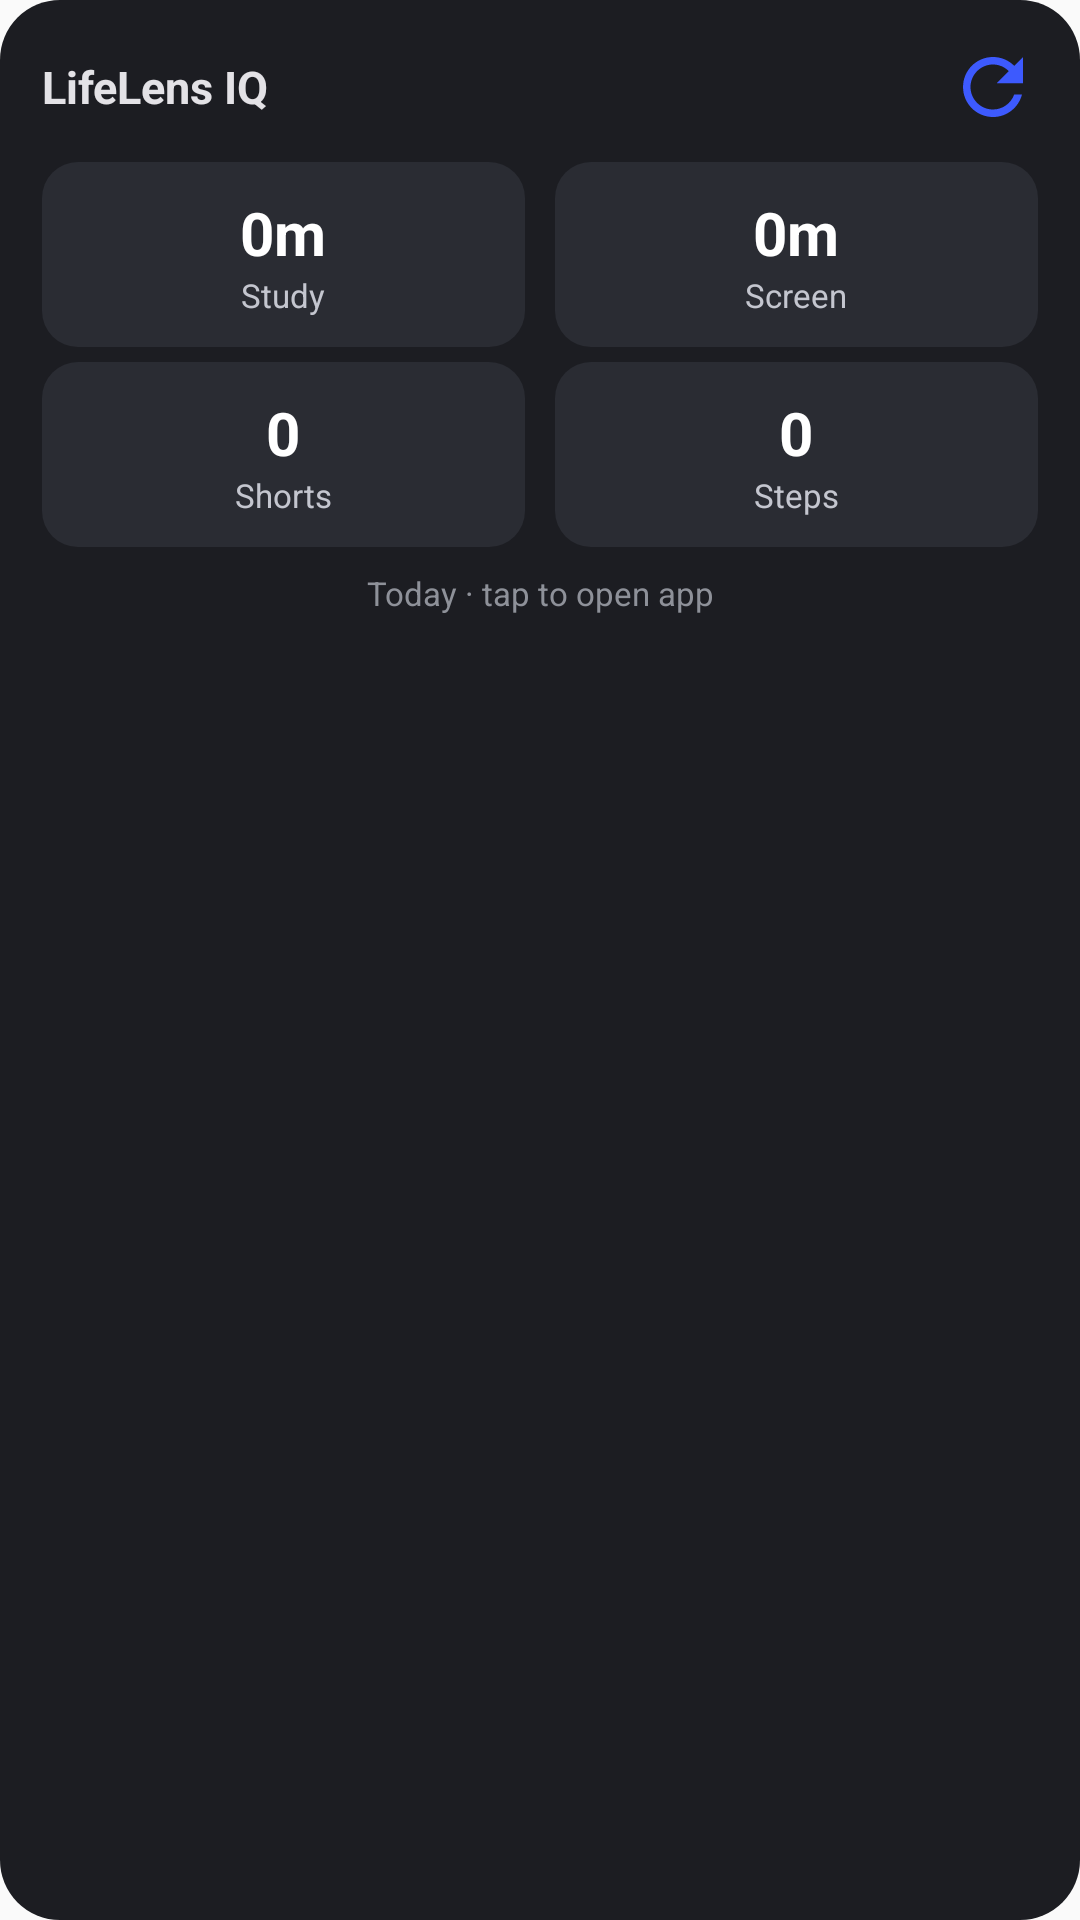

Icon bounding boxes for this 1080w x 1920h phone screenshot, format (x1, y1, x2, y2):
Sync now: (963, 57, 1023, 117)
